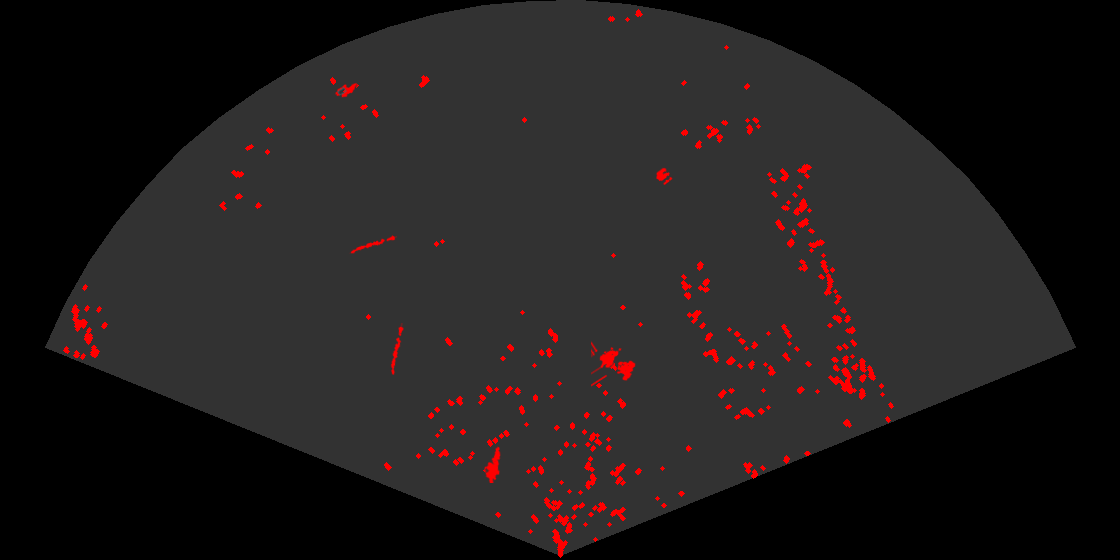AUV: (333, 81, 358, 99)
ball: (654, 166, 674, 187)
cage: (591, 340, 637, 388)
chain: (348, 234, 397, 255), (389, 323, 405, 375)
frogman: (483, 446, 502, 483)
